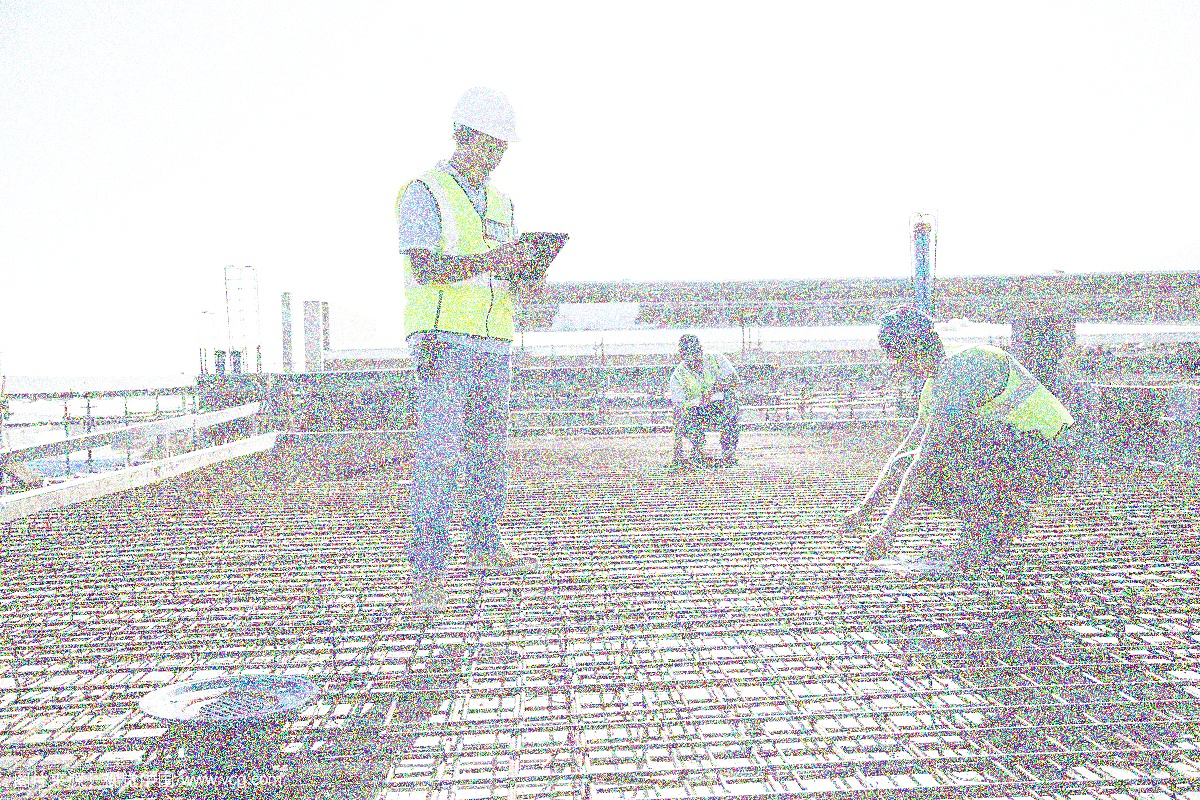helmet: (448, 83, 523, 187), (871, 293, 950, 380), (677, 332, 707, 370)
vest: (390, 165, 523, 340), (912, 340, 1078, 430), (669, 351, 739, 403)
